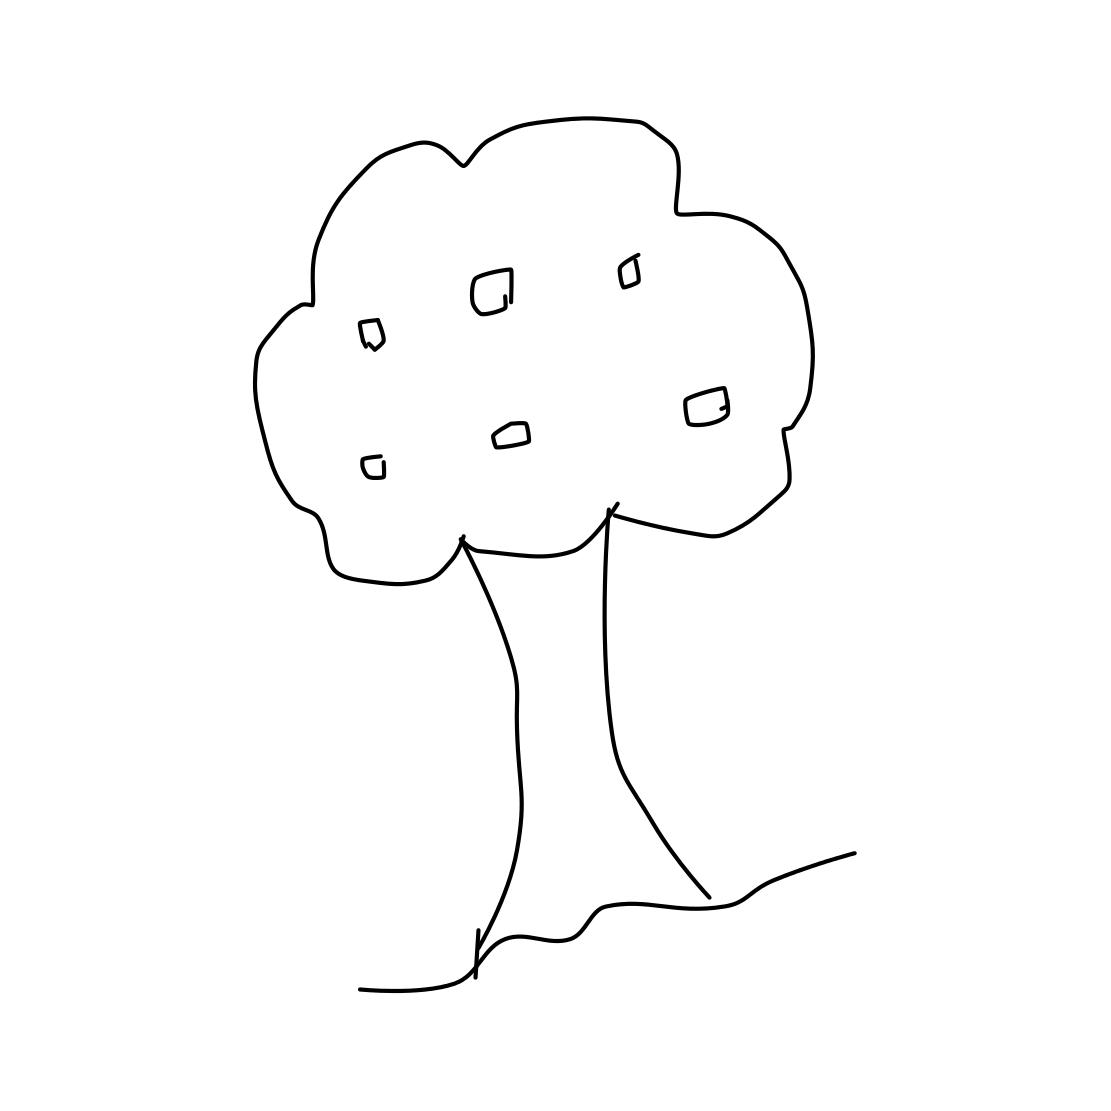Tree: (201, 80, 821, 957)
